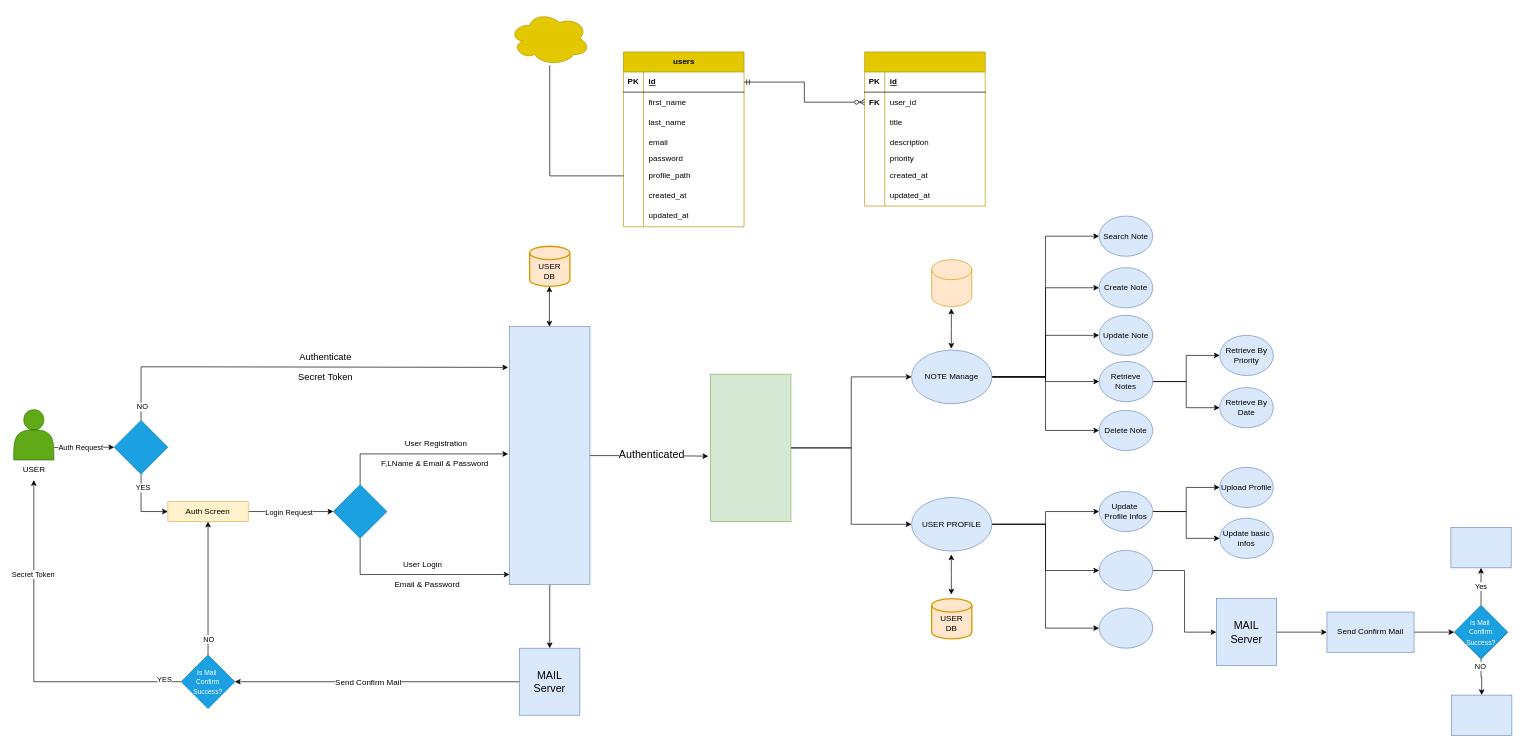
The diagram is 1524 pixels wide and 747 high, and some of its shapes have lost their labels. Each missing label, with the box of its shape:
Action FAIL!: (1451, 694, 1512, 735)
Authentication Server: (509, 326, 590, 585)
Forgot Password: (1098, 550, 1153, 591)
Is Token Exist & Expire?: (114, 420, 168, 474)
Is User Exist?: (333, 484, 387, 538)
Logout: (1098, 607, 1153, 648)
Note DB: (931, 259, 972, 307)
notes: (864, 51, 985, 206)
Reset Password: (1450, 527, 1511, 568)
S3: (509, 11, 590, 65)
TODO APP: (710, 374, 791, 522)
